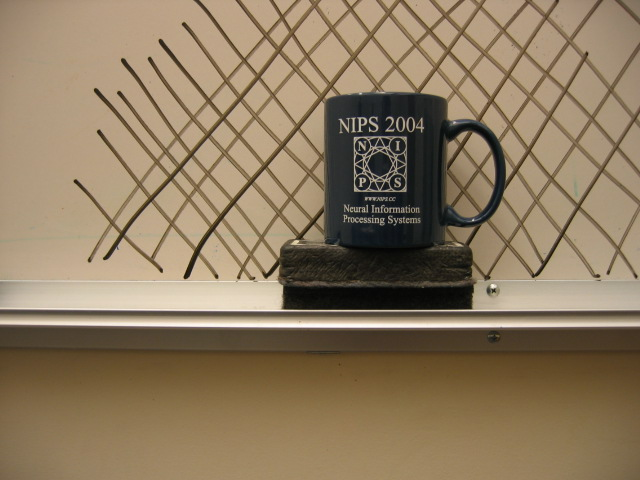mug: (321, 90, 507, 255)
